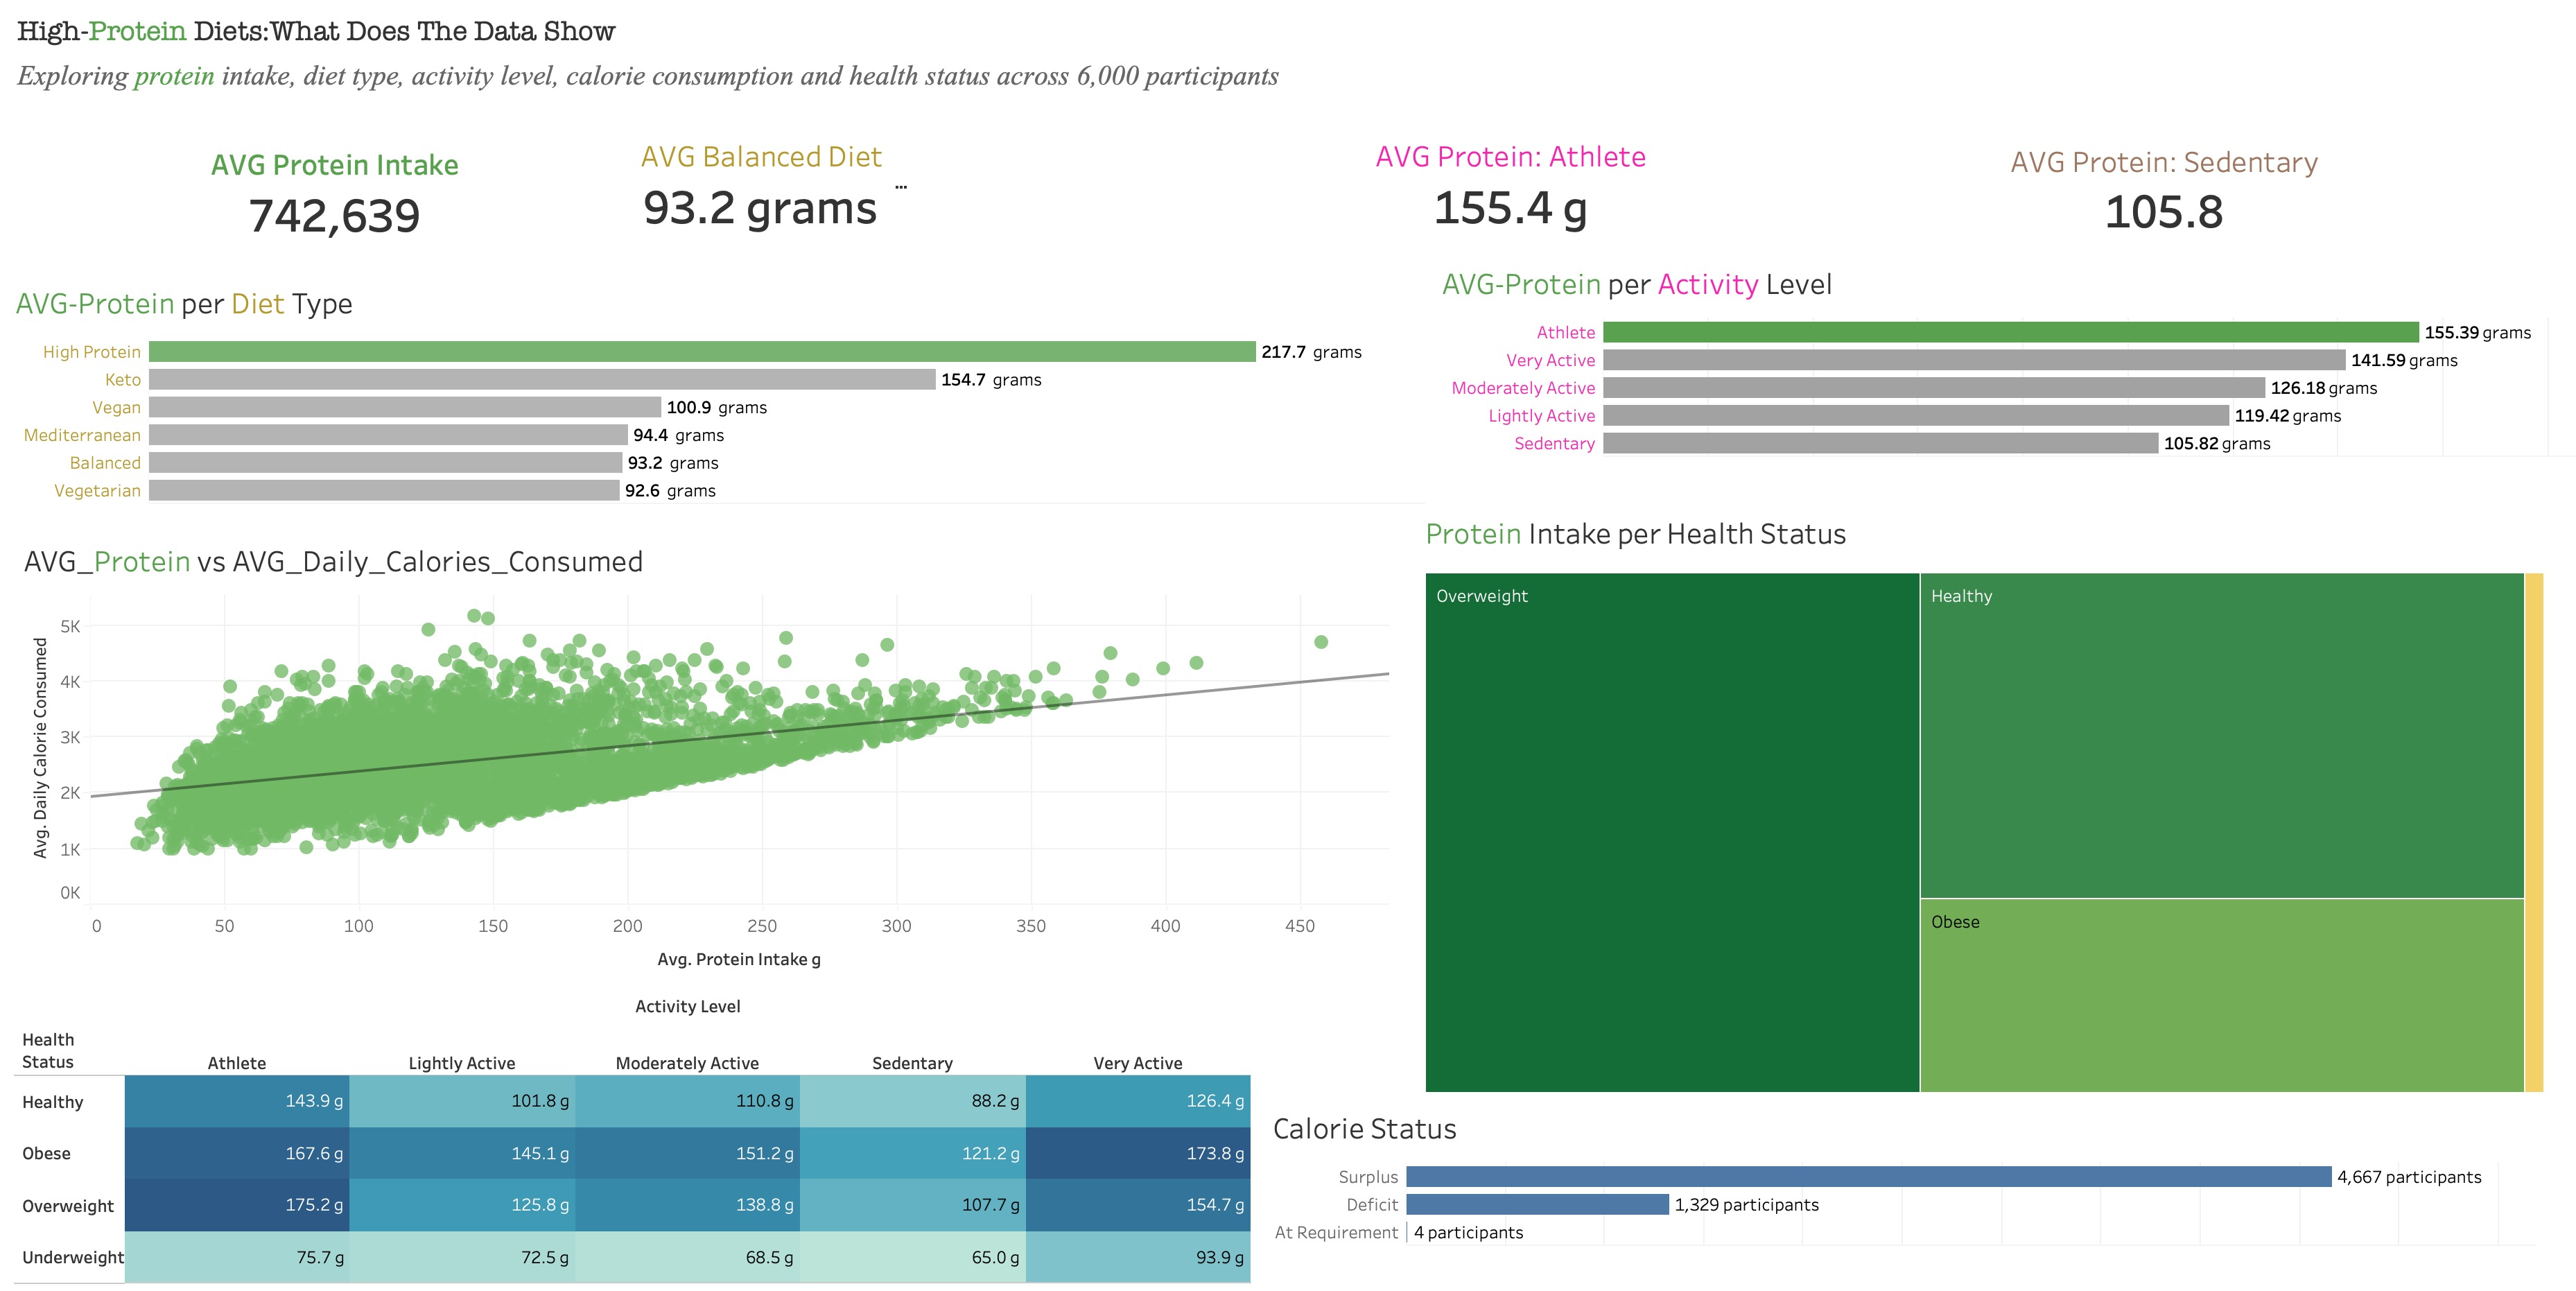

This screenshot's page, from the dashboard's own definition file:
{"tool":"tableau","page":{"name":"High-Protein Dashboard","canvas":[1000,1000],"units":"permille","ordinal":0},"visuals":[{"type":"title","box":[4.3,10.1,991.4,40.5]},{"type":"text","box":[4.3,50.6,991.4,40.5]},{"type":"worksheet","title":"protein_kpi_card","mark":"Text","box":[1.1,88.5,260.1,126.4]},{"type":"worksheet","title":"avg protein athlete","mark":"Automatic","box":[472.9,97.4,225.7,112.5]},{"type":"worksheet","title":"avg protein sedentary","mark":"Automatic","box":[682,101.1,313.1,108.7]},{"type":"worksheet","title":"protein per diet type kpi","mark":"Automatic","box":[244.5,102.4,224.1,115]},{"type":"worksheet","title":"protein per diet type","mark":"Automatic","rows":["Diet_Type"],"cols":["Protein_Intake_g"],"box":[4.7,215.4,547.7,205.9]},{"type":"worksheet","title":"protein per activity level","mark":"Automatic","rows":["Activity_Level"],"cols":["Protein_Intake_g"],"box":[556.5,215.4,441.8,187]},{"type":"worksheet","title":"Protein Intake per Health Status","mark":"Automatic","box":[550,392.9,437.1,478.1]},{"type":"worksheet","title":"protein vs calories","mark":"Circle","rows":["Daily_Calorie_Consumed"],"cols":["Protein_Intake_g"],"box":[8.2,414.2,530.7,343.2]},{"type":"worksheet","title":"Health Status vs Activity Level","mark":"Square","rows":["Health_Status"],"cols":["Activity_Level"],"box":[6.4,766.1,478.8,226.3]},{"type":"worksheet","title":"Calorie Status","mark":"Automatic","rows":["Calculation_4548646812688384"],"cols":["Person_ID"],"box":[491.2,848.3,490.6,141.6]}]}

Visuals, with their boxes on the dashboard's canvas, which has no fixed pixel size, in thousandths of its width and height (x1, y1, x2, y2). These are canvas units, not pixel positions in the 2576x1291 screenshot, which may show the page scaled, cropped or inside an application window:
title: 4,10,996,51
text: 4,51,996,91
"protein_kpi_card" worksheet (Text marks): 1,88,261,215
"avg protein athlete" worksheet: 473,97,699,210
"avg protein sedentary" worksheet: 682,101,995,210
"protein per diet type kpi" worksheet: 244,102,469,217
"protein per diet type" worksheet: 5,215,552,421
"protein per activity level" worksheet: 556,215,998,402
"Protein Intake per Health Status" worksheet: 550,393,987,871
"protein vs calories" worksheet (Circle marks): 8,414,539,757
"Health Status vs Activity Level" worksheet (Square marks): 6,766,485,992
"Calorie Status" worksheet: 491,848,982,990
